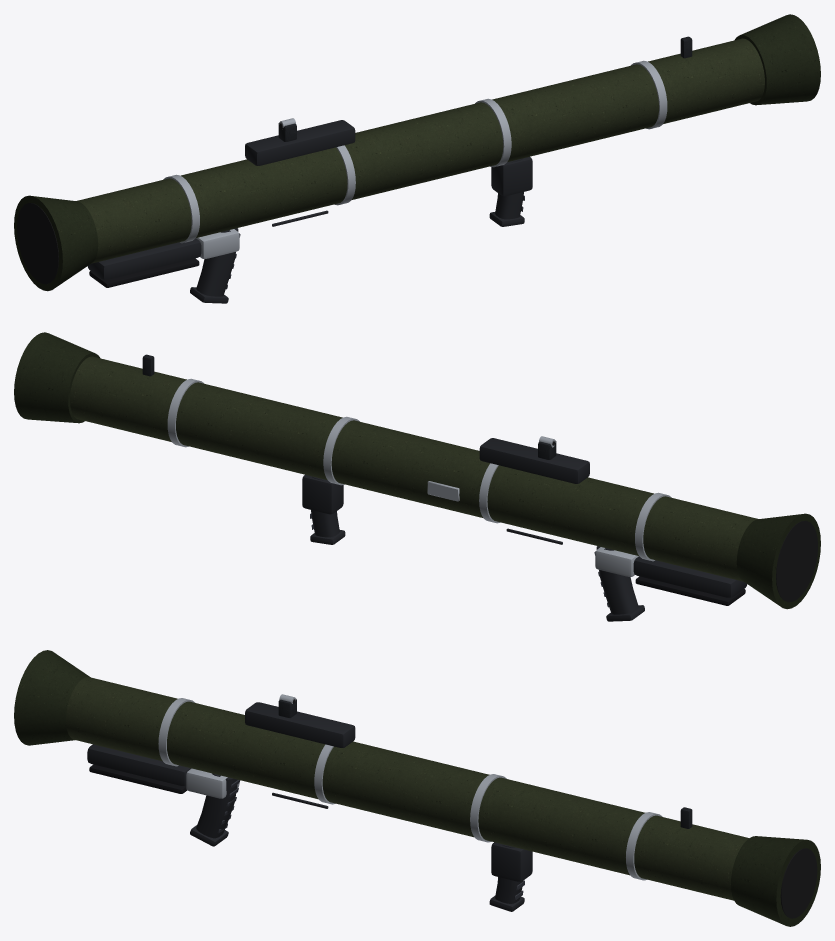
Rendered from rpg.glb.
3 renders of one model, top to bottom at view 1: azimuth 30°, elevation 25°; view 2: azimuth 150°, elevation 25°; view 3: azimuth 330°, elevation 25°, orthographic.
Visible parts, largest first — view 1: rpg_body; view 2: rpg_body; view 3: rpg_body.
Boxes of the visible parts, x1,y1,x2,y2 form: rpg_body: (14,14,820,303); rpg_body: (14,332,820,621); rpg_body: (14,650,820,926).
Bounding box in the file's own units: 1.22 × 0.249 × 0.136.
8 materials, 3 textured.
